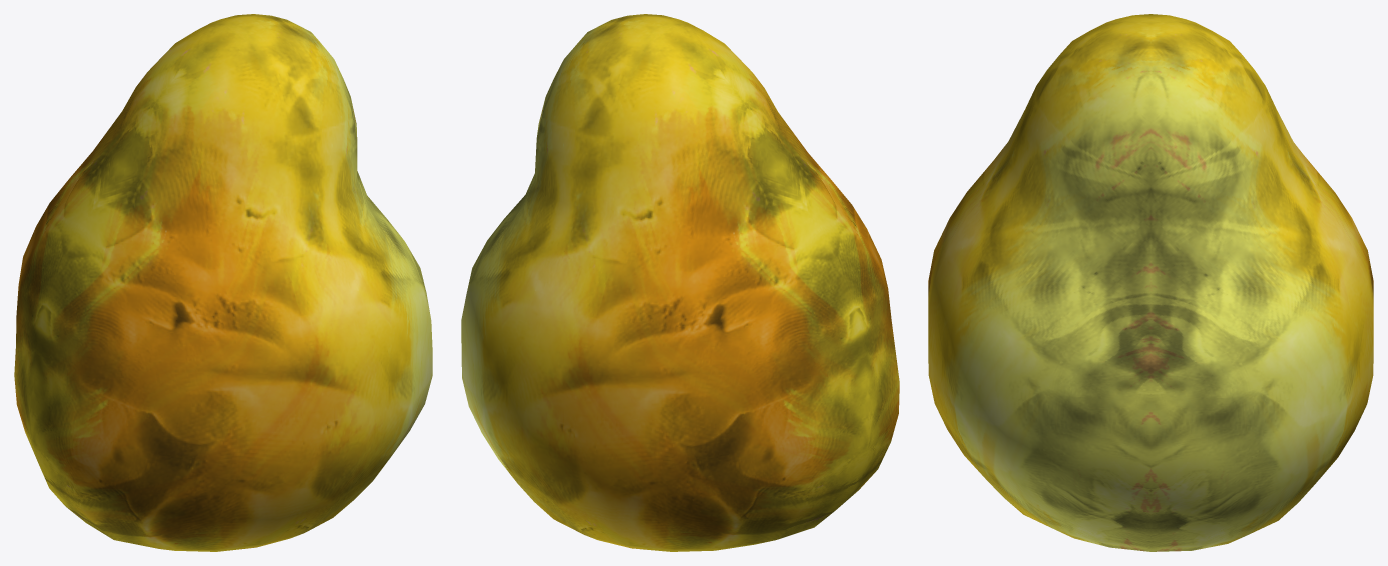
The model's file is mpoire2Outline.FBX.
3 views of the same model, side by side, from view 1: azimuth 30°, elevation 25°; view 2: azimuth 150°, elevation 25°; view 3: azimuth 270°, elevation 25° (orthographic). The views are drawn at different scales.
Visible parts, largest first — view 1: Poire_Positif_02_OUTLINE; view 2: Poire_Positif_02_OUTLINE; view 3: Poire_Positif_02_OUTLINE.
Boxes of the visible parts, x1=… form: Poire_Positif_02_OUTLINE: x1=14, y1=14, x2=432, y2=551; Poire_Positif_02_OUTLINE: x1=461, y1=14, x2=899, y2=551; Poire_Positif_02_OUTLINE: x1=928, y1=14, x2=1373, y2=551.
Bounding box in the file's own units: 1.7 × 2.12 × 1.67.
